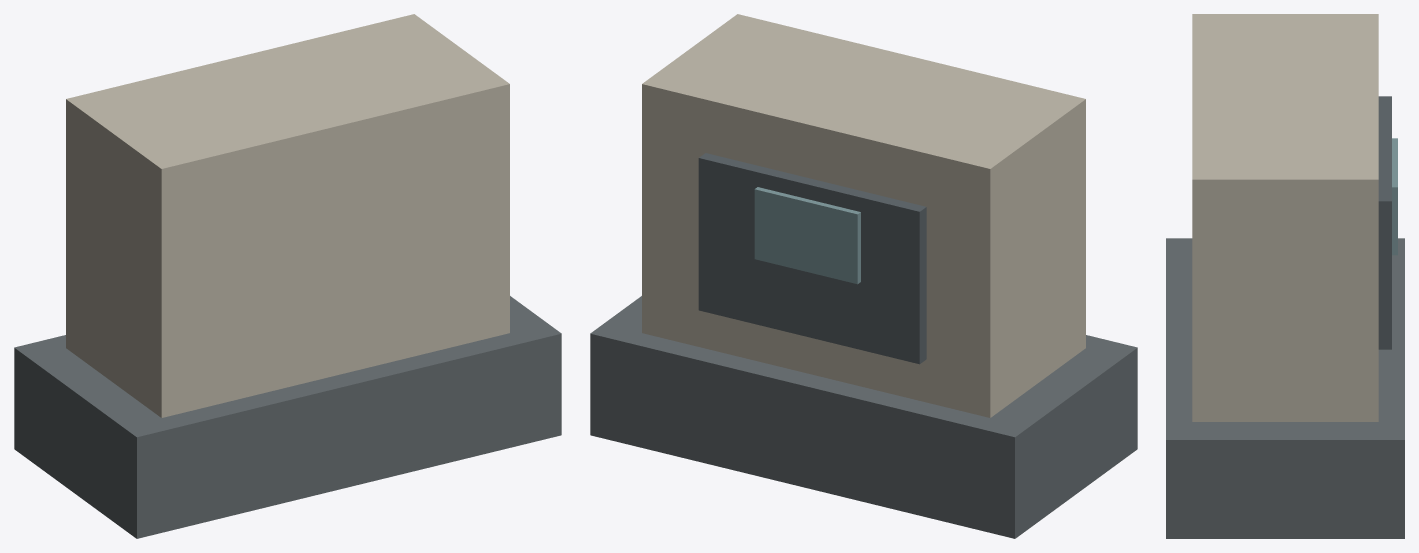
File: iz3_military_radio_01.glb
3 views of the same model, side by side, from view 1: azimuth 30°, elevation 25°; view 2: azimuth 150°, elevation 25°; view 3: azimuth 270°, elevation 25° (orthographic). The views are drawn at different scales.
Parts seen in each view (by area): view 1: cabinet, base; view 2: cabinet, base, panel, display; view 3: cabinet, base, panel, display.
Boxes of the visible parts, x1,y1,x2,y2 form: cabinet: [66, 14, 509, 417]; base: [14, 296, 561, 538]; cabinet: [642, 14, 1085, 417]; base: [590, 296, 1137, 538]; panel: [698, 153, 926, 364]; display: [754, 187, 860, 284]; cabinet: [1192, 14, 1378, 421]; base: [1166, 238, 1404, 538]; panel: [1378, 96, 1391, 349]; display: [1392, 138, 1397, 255].
Bounding box in the file's own units: 1.4 × 1.1 × 0.7.
